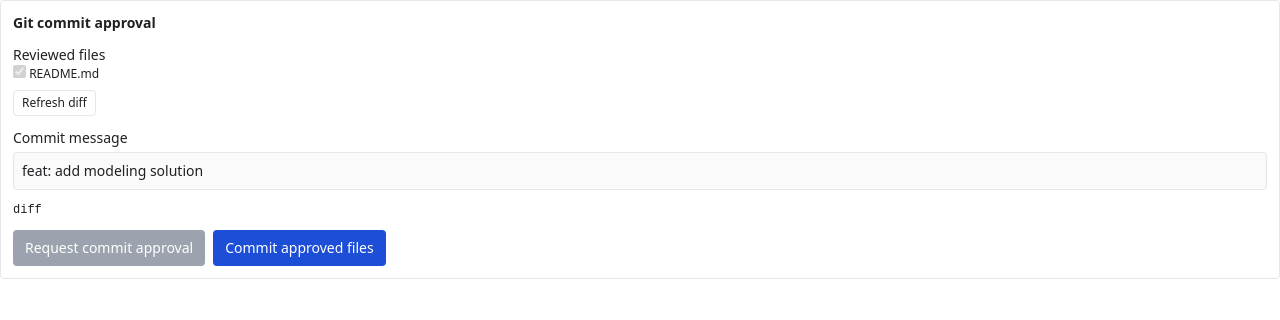
it: GitCommitApprovalCard › rechecks an approved request and removes its commit action for changed content
Click the button "Refresh diff" at [54, 103], box [13,90,96,116]
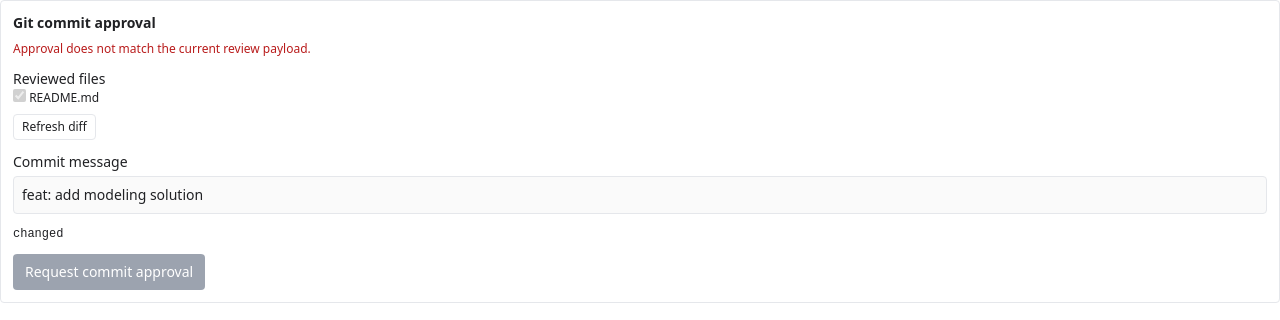
Expected: the button "Commit approved files" is gone
Expected: the message shows "Approval does not match", [13,40,311,57]
